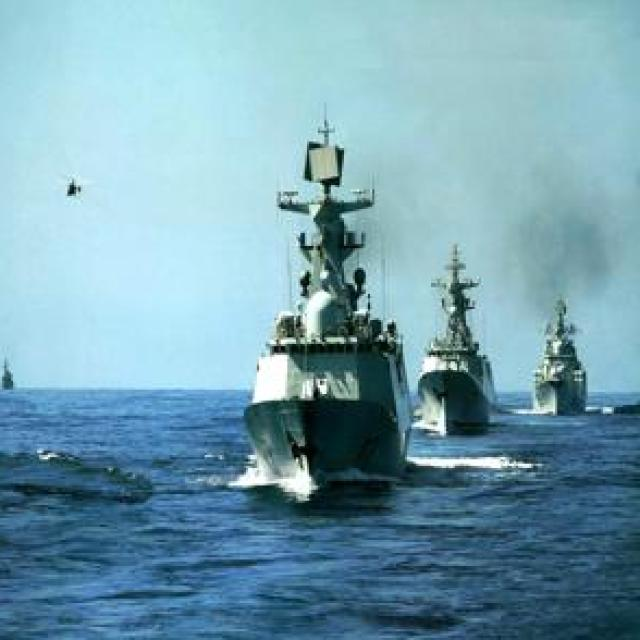navalvessels: (243, 101, 417, 490), (417, 244, 504, 431), (528, 296, 590, 412), (0, 346, 18, 389)
